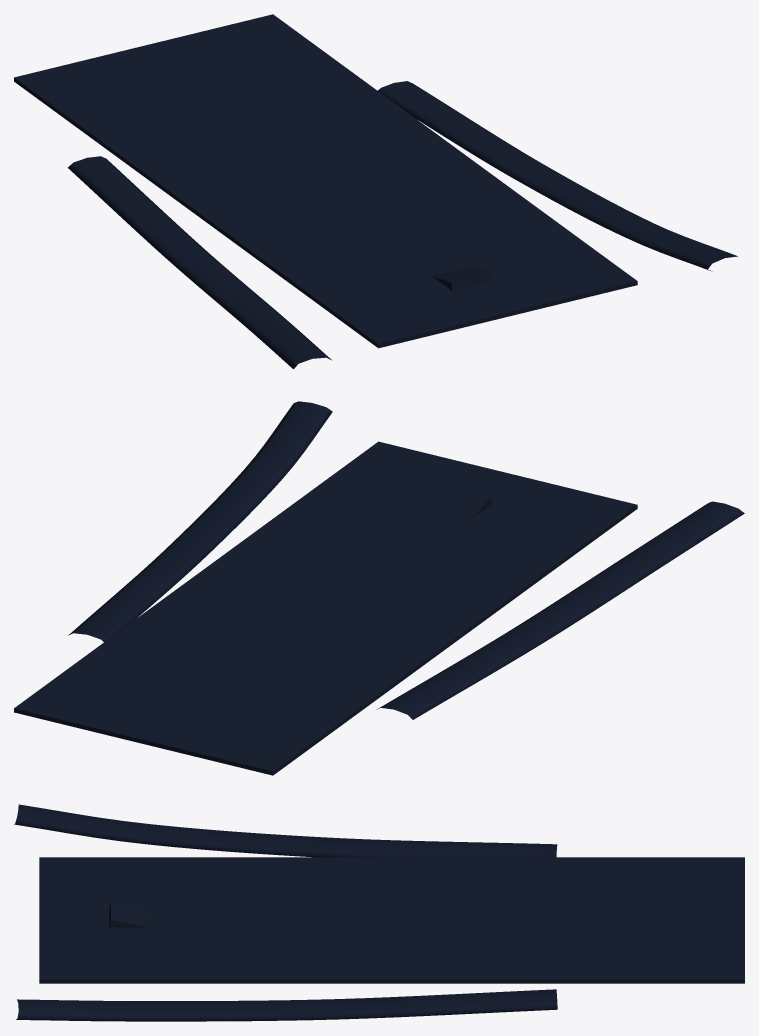
File: underbody_venturi_tunnels.glb
3 renders of one model, top to bottom at view 1: azimuth 30°, elevation 25°; view 2: azimuth 150°, elevation 25°; view 3: azimuth 270°, elevation 25°, orthographic. The views are drawn at different scales.
Visible parts, largest first — view 1: Underbody_Aerodynamics_Venturi_Assembly; view 2: Underbody_Aerodynamics_Venturi_Assembly; view 3: Underbody_Aerodynamics_Venturi_Assembly.
Part boxes in pixels (x1,y1,x2,y2): Underbody_Aerodynamics_Venturi_Assembly: (14, 14, 737, 369); Underbody_Aerodynamics_Venturi_Assembly: (14, 401, 744, 775); Underbody_Aerodynamics_Venturi_Assembly: (14, 804, 744, 1021).
Bounding box in the file's own units: 2.75 × 0.166 × 3.99.
